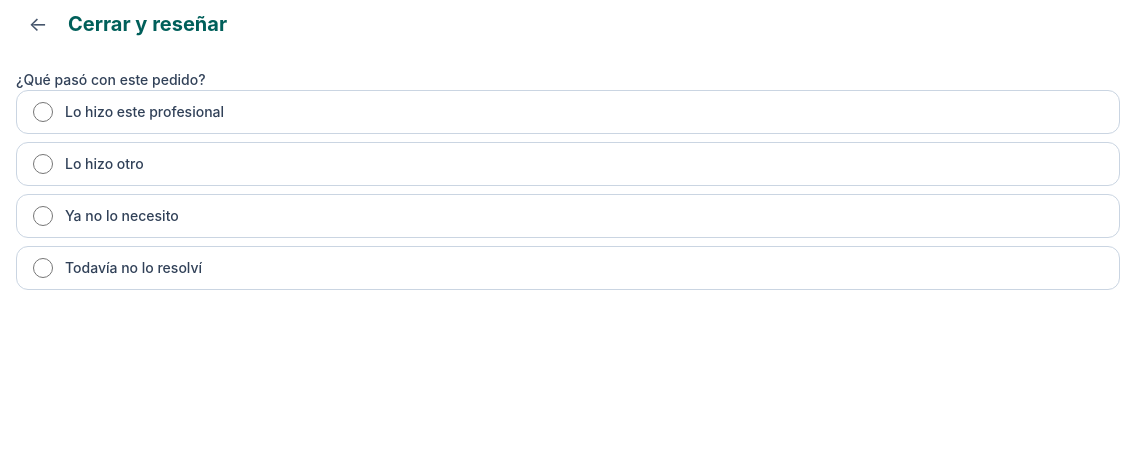
Test case: CerrarPedidoPage › "todavía no lo resolví": confirmar postergs sin cerrar el pedido y muestra el aviso de que se posterga
Click the text "Todavía no lo resolví" at {"x": 134, "y": 268}, box [16, 246, 1120, 290]
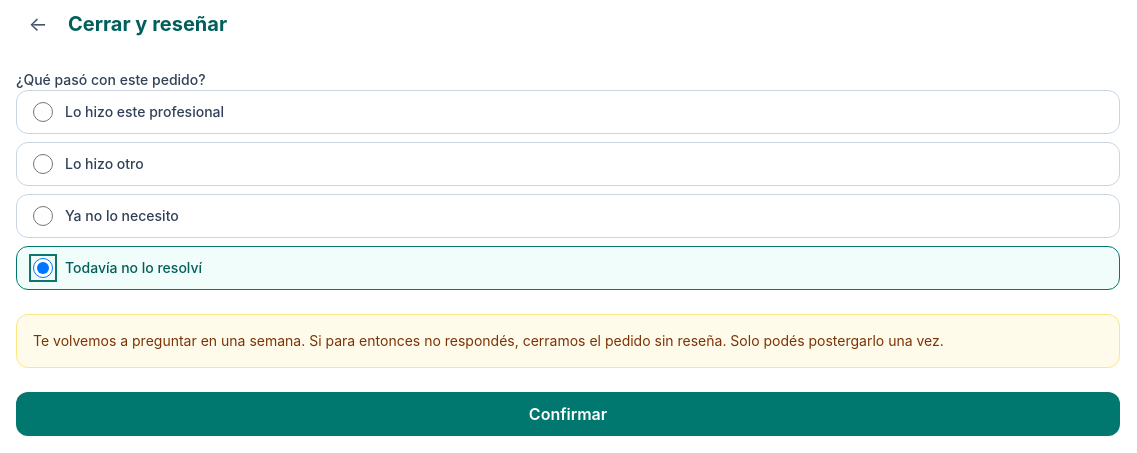
Click the button "Confirmar" at {"x": 568, "y": 414}, box [16, 392, 1120, 436]
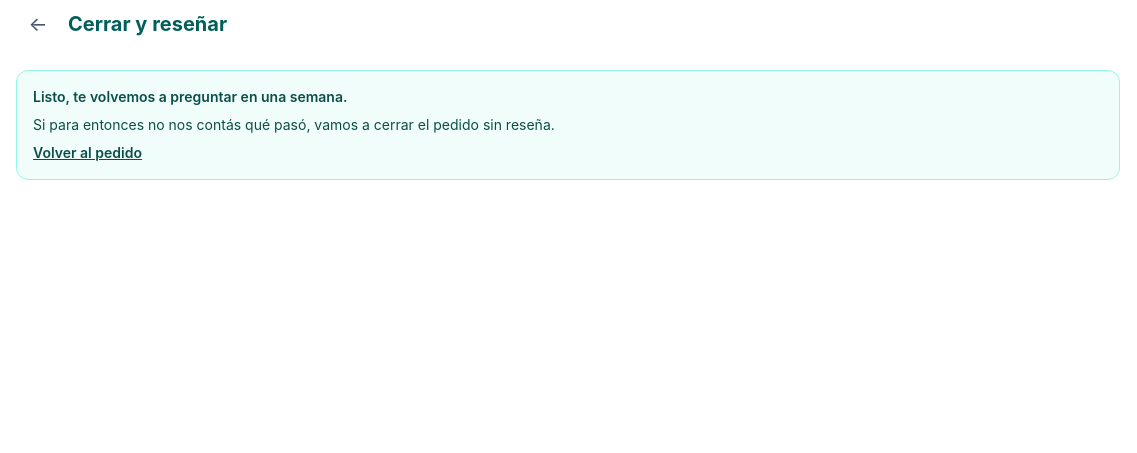
Now the text "Listo, te volvemos a preguntar en una semana." is shown, box [33, 88, 347, 105]
